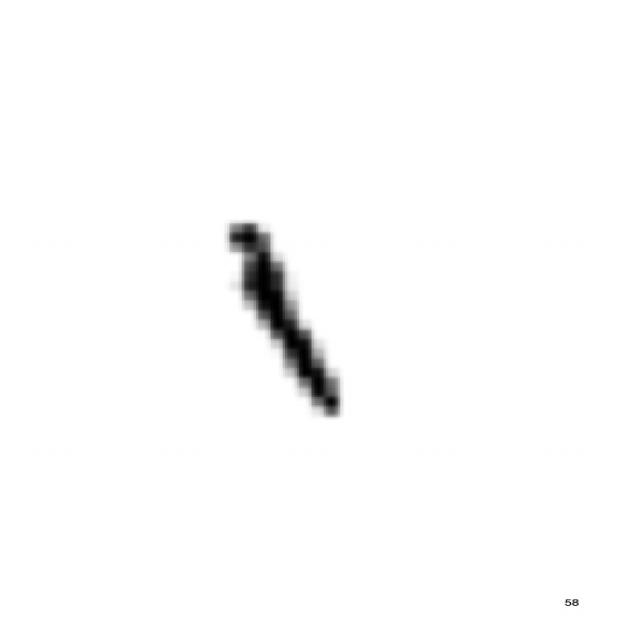1 -one-: (199, 209, 357, 426)
